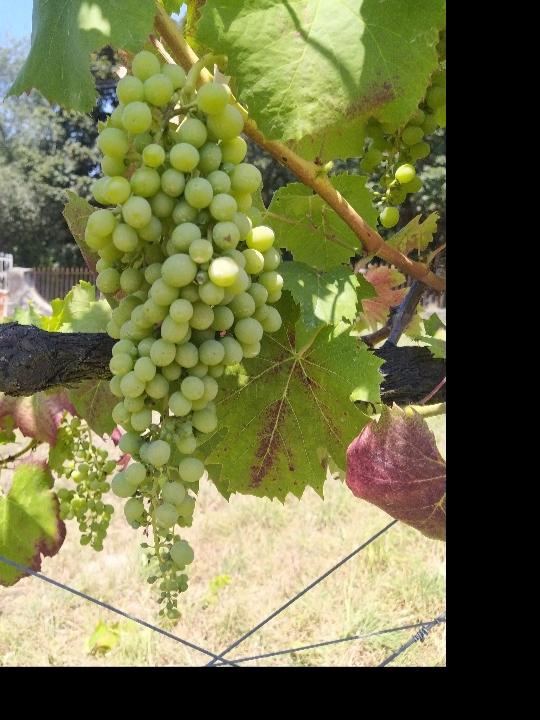grape: (83, 48, 284, 625), (55, 415, 120, 557)
